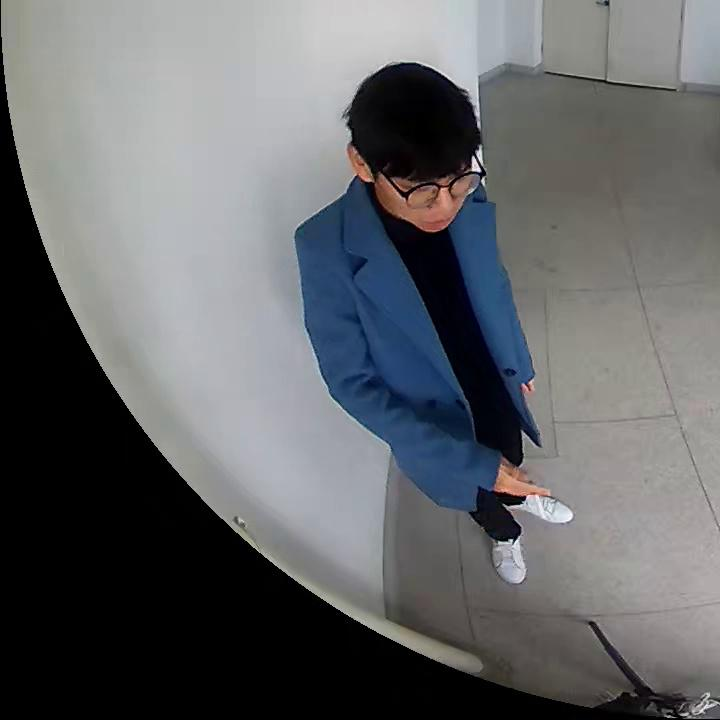handsmoke: (500, 462, 549, 522)
mouthwithoutsmoke: (345, 62, 483, 235)
